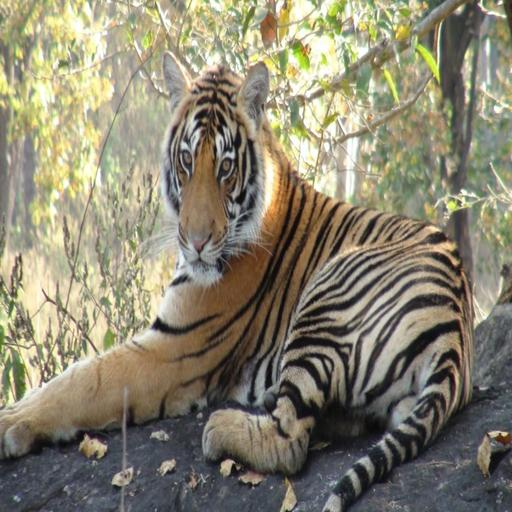Tiger: (0, 47, 479, 511)
